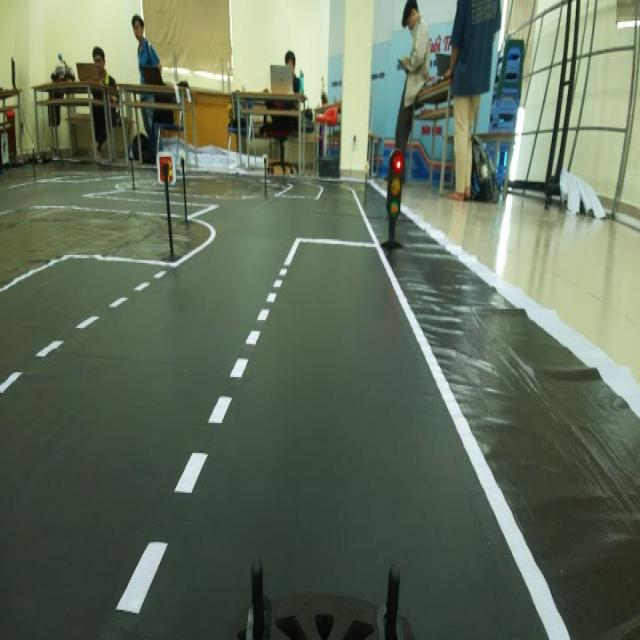trafficlight: (376, 140, 412, 262)
